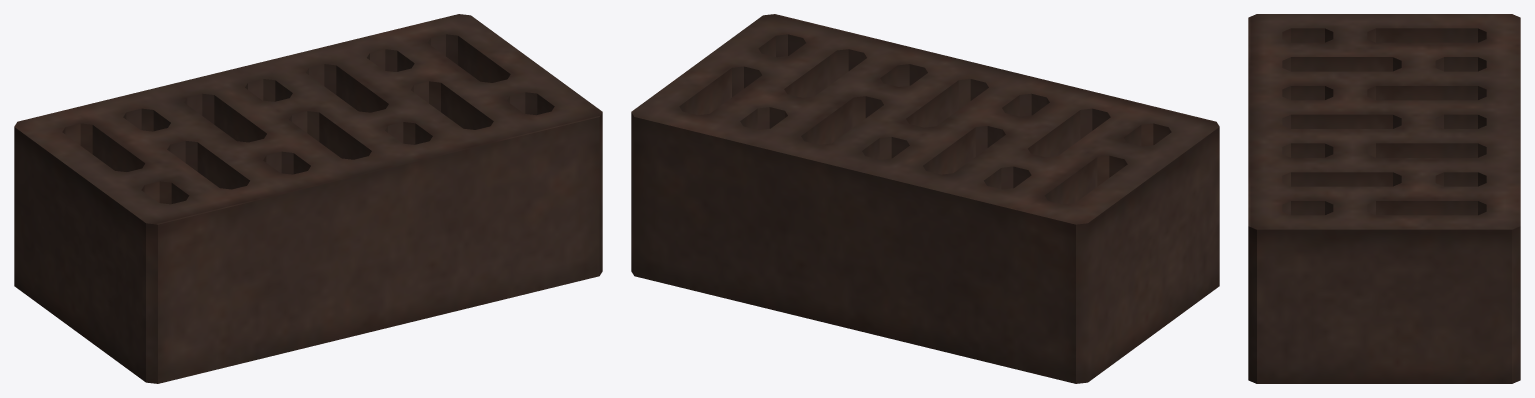
The model's file is brick.dae.
3 renders of one model, left to right at view 1: azimuth 30°, elevation 25°; view 2: azimuth 150°, elevation 25°; view 3: azimuth 270°, elevation 25°, orthographic. The views are drawn at different scales.
Visible parts, largest first — view 1: brick; view 2: brick; view 3: brick.
Part boxes in pixels (x1,y1,x2,y2): brick: (14,14,602,383); brick: (631,14,1219,383); brick: (1248,14,1520,383).
Bounding box in the file's own units: 0.42 × 0.224 × 0.14.
Materials: 1 (1 with a texture image).
